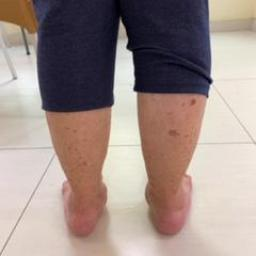Back View -Both Feet-: (44, 152, 206, 248)
